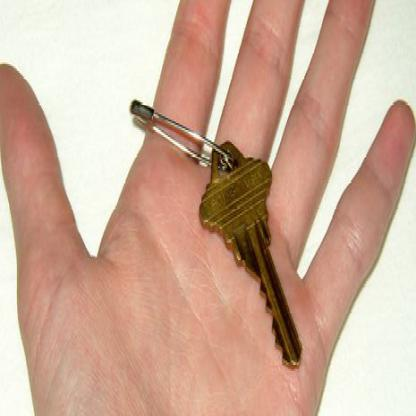keys: (198, 138, 303, 372)
